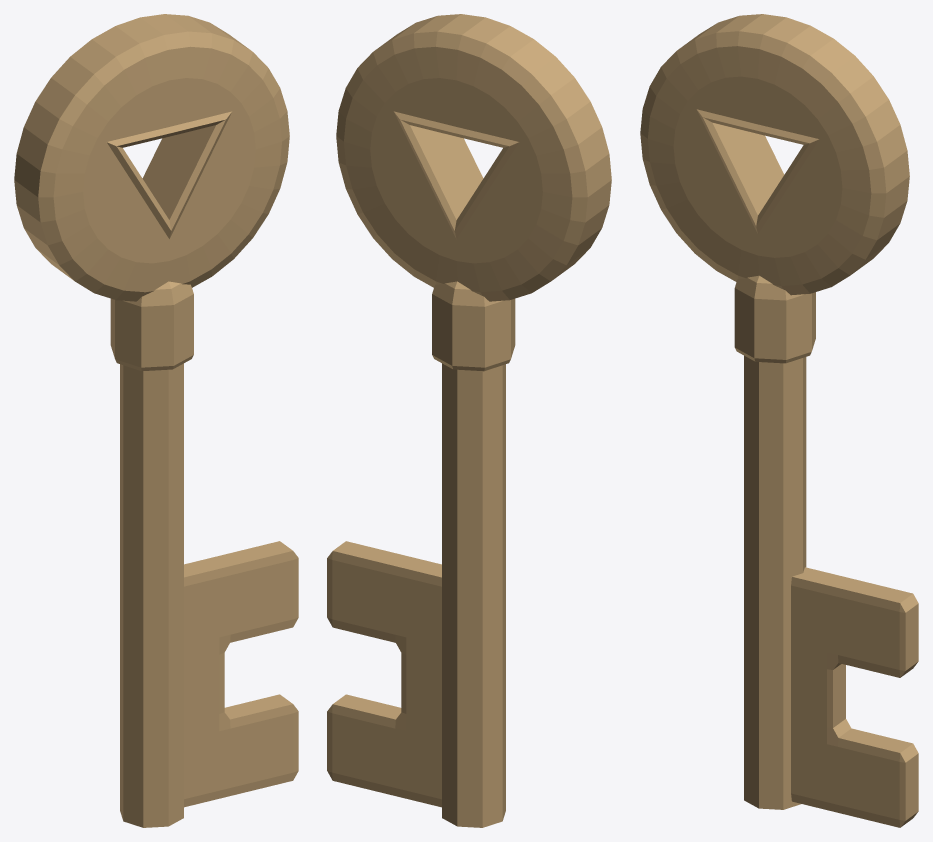
Rendered from theme02_key03.fbx.
3 views of the same model, side by side, from view 1: azimuth 30°, elevation 25°; view 2: azimuth 150°, elevation 25°; view 3: azimuth 330°, elevation 25° (orthographic). The views are drawn at different scales.
Visible parts, largest first — view 1: key03head.003; view 2: key03head.003; view 3: key03head.003.
Part boxes in pixels (<box>): key03head.003: <box>14,14,298,827</box>; key03head.003: <box>327,14,611,827</box>; key03head.003: <box>640,14,918,827</box>.
Bounding box in the file's own units: 10.64 × 30.13 × 2.98.
